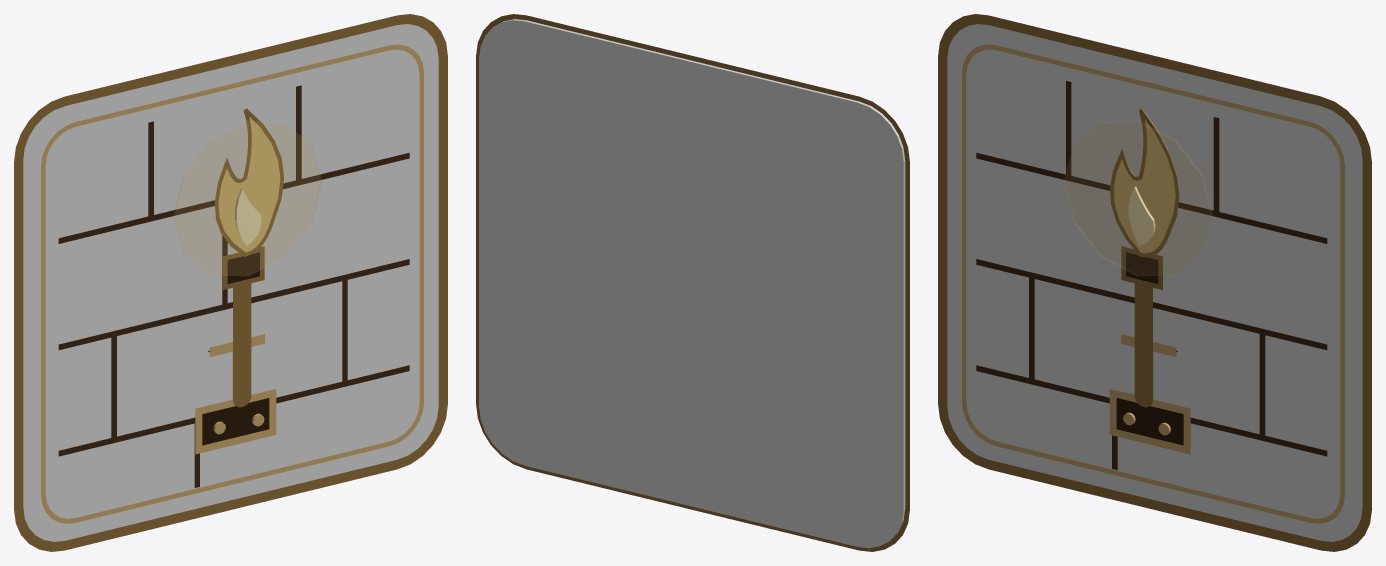
Rendered from obj-fakel-dozora.glb.
3 renders of one model, left to right at view 1: azimuth 30°, elevation 25°; view 2: azimuth 150°, elevation 25°; view 3: azimuth 330°, elevation 25°, orthographic.
Visible parts, largest first — view 1: obj-fakel-dozora; view 2: obj-fakel-dozora; view 3: obj-fakel-dozora.
Boxes of the visible parts, x1,y1,x2,y2 form: obj-fakel-dozora: [14, 14, 447, 551]; obj-fakel-dozora: [476, 14, 909, 551]; obj-fakel-dozora: [938, 14, 1371, 551].
Bounding box in the file's own units: 0.3917 × 0.3917 × 0.03.
